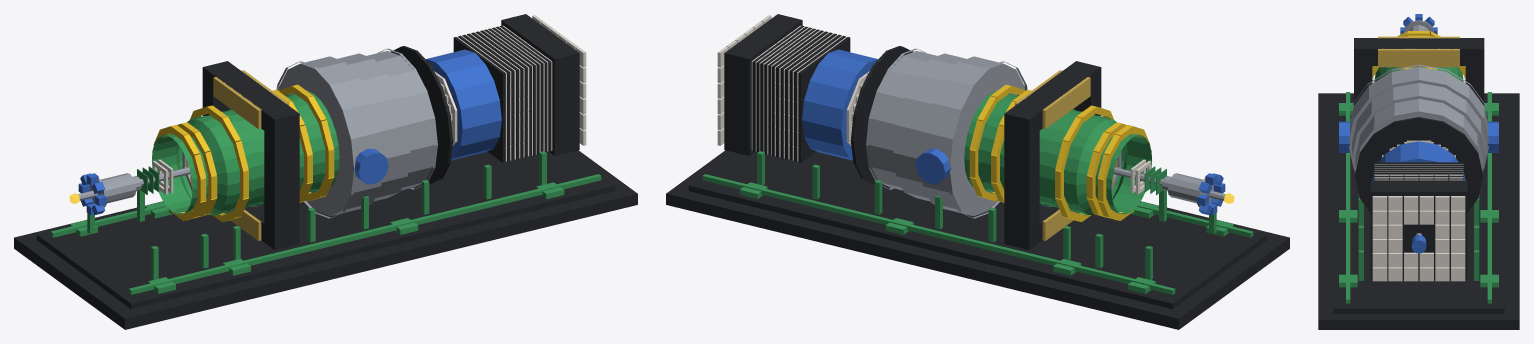
Rendered from detector_scene.glb.
3 views of the same model, side by side, from view 1: azimuth 30°, elevation 25°; view 2: azimuth 150°, elevation 25°; view 3: azimuth 270°, elevation 25° (orthographic). The views are drawn at different scales.
Parts seen in each view (by area): view 1: PROP_plinth, PROP_na62_rich, PROP_na62_muv_slabs, PROP_na62_magnet, PROP_na62_decay_tank, PROP_support_frame, PROP_na62_lav_rings, PROP_na62_lkr, PROP_na62_ktag, PROP_na62_muv3, PROP_na62_chanti, PROP_na62_gtk; view 2: PROP_plinth, PROP_na62_rich, PROP_na62_muv_slabs, PROP_na62_magnet, PROP_na62_decay_tank, PROP_support_frame, PROP_na62_lav_rings, PROP_na62_lkr, PROP_na62_ktag, PROP_na62_muv3, PROP_na62_chanti, PROP_na62_gtk; view 3: PROP_plinth, PROP_na62_rich, PROP_na62_muv3, PROP_na62_muv_slabs, PROP_na62_magnet, PROP_support_frame, PROP_na62_lkr, PROP_na62_ktag, PROP_na62_decay_tank, PROP_na62_lav_rings, PROP_na62_sac.
Boxes of the visible parts, box(x1,y1,x2,y2) form: PROP_plinth: box(14, 150, 637, 329); PROP_na62_rich: box(276, 46, 453, 218); PROP_na62_muv_slabs: box(453, 14, 579, 162); PROP_na62_magnet: box(202, 61, 299, 249); PROP_na62_decay_tank: box(152, 90, 339, 215); PROP_support_frame: box(50, 151, 601, 294); PROP_na62_lav_rings: box(153, 84, 334, 222); PROP_na62_lkr: box(426, 49, 501, 160); PROP_na62_ktag: box(78, 173, 141, 215); PROP_na62_muv3: box(532, 15, 586, 145); PROP_na62_chanti: box(152, 159, 173, 194); PROP_na62_gtk: box(137, 166, 159, 194); PROP_plinth: box(666, 150, 1289, 329); PROP_na62_rich: box(850, 46, 1027, 218); PROP_na62_muv_slabs: box(724, 14, 850, 162); PROP_na62_magnet: box(1004, 61, 1101, 249); PROP_na62_decay_tank: box(964, 90, 1151, 215); PROP_support_frame: box(702, 151, 1253, 294); PROP_na62_lav_rings: box(969, 84, 1150, 222); PROP_na62_lkr: box(802, 49, 877, 160); PROP_na62_ktag: box(1162, 173, 1225, 215); PROP_na62_muv3: box(717, 15, 771, 145); PROP_na62_chanti: box(1130, 159, 1151, 194); PROP_na62_gtk: box(1144, 166, 1166, 195); PROP_plinth: box(1318, 93, 1519, 329); PROP_na62_rich: box(1339, 64, 1498, 212); PROP_na62_muv3: box(1372, 196, 1465, 281); PROP_na62_muv_slabs: box(1370, 162, 1467, 279); PROP_na62_magnet: box(1354, 36, 1484, 105); PROP_support_frame: box(1339, 92, 1498, 303); PROP_na62_lkr: box(1372, 141, 1465, 180); PROP_na62_ktag: box(1400, 14, 1437, 34); PROP_na62_decay_tank: box(1373, 67, 1464, 82); PROP_na62_lav_rings: box(1372, 31, 1465, 82); PROP_na62_sac: box(1411, 235, 1426, 253).
Size of what is drawn, in the model's own units: 14.4 by 4.35 by 5.4.
